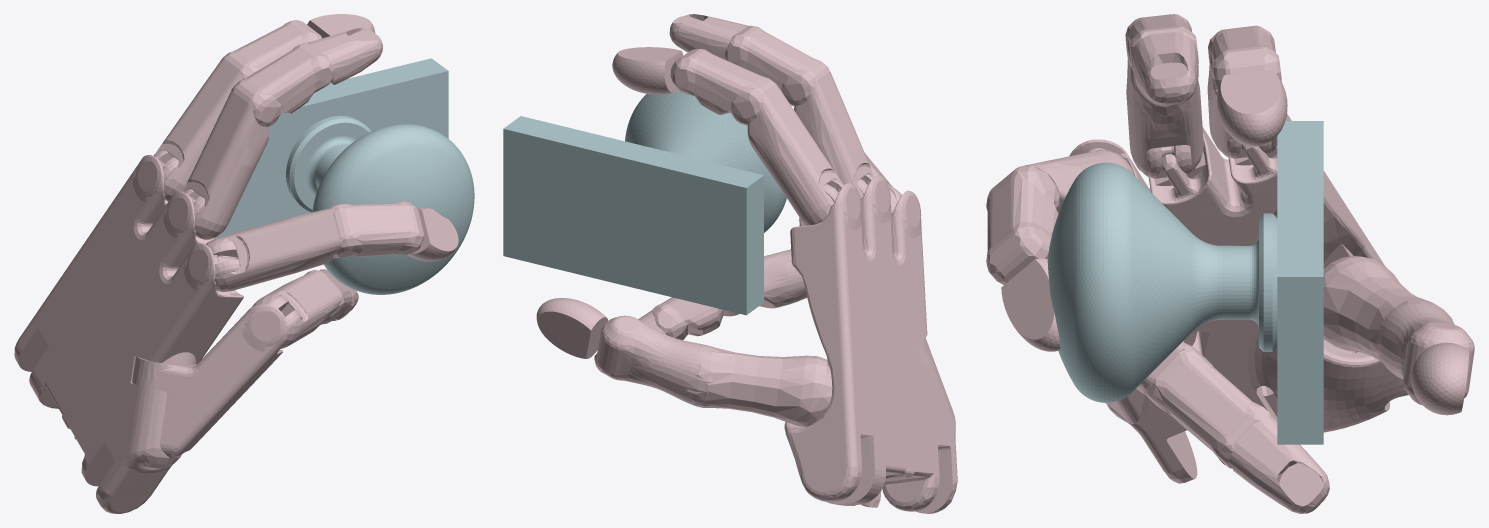
File: grasp_4.glb
3 renders of one model, left to right at view 1: azimuth 30°, elevation 25°; view 2: azimuth 150°, elevation 25°; view 3: azimuth 270°, elevation 25°, orthographic. The views are drawn at different scales.
Parts seen in each view (by area): view 1: world; view 2: world; view 3: world.
Boxes of the visible parts, bbox=[...] form: world: bbox=[14, 14, 474, 513]; world: bbox=[503, 14, 957, 513]; world: bbox=[986, 14, 1474, 513].
Size of the model in its own units: 0.1622 by 0.1705 by 0.1322.
